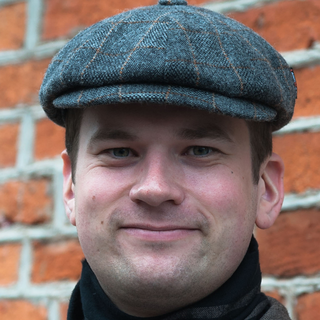eye: (91, 141, 147, 169), (176, 138, 225, 164)
